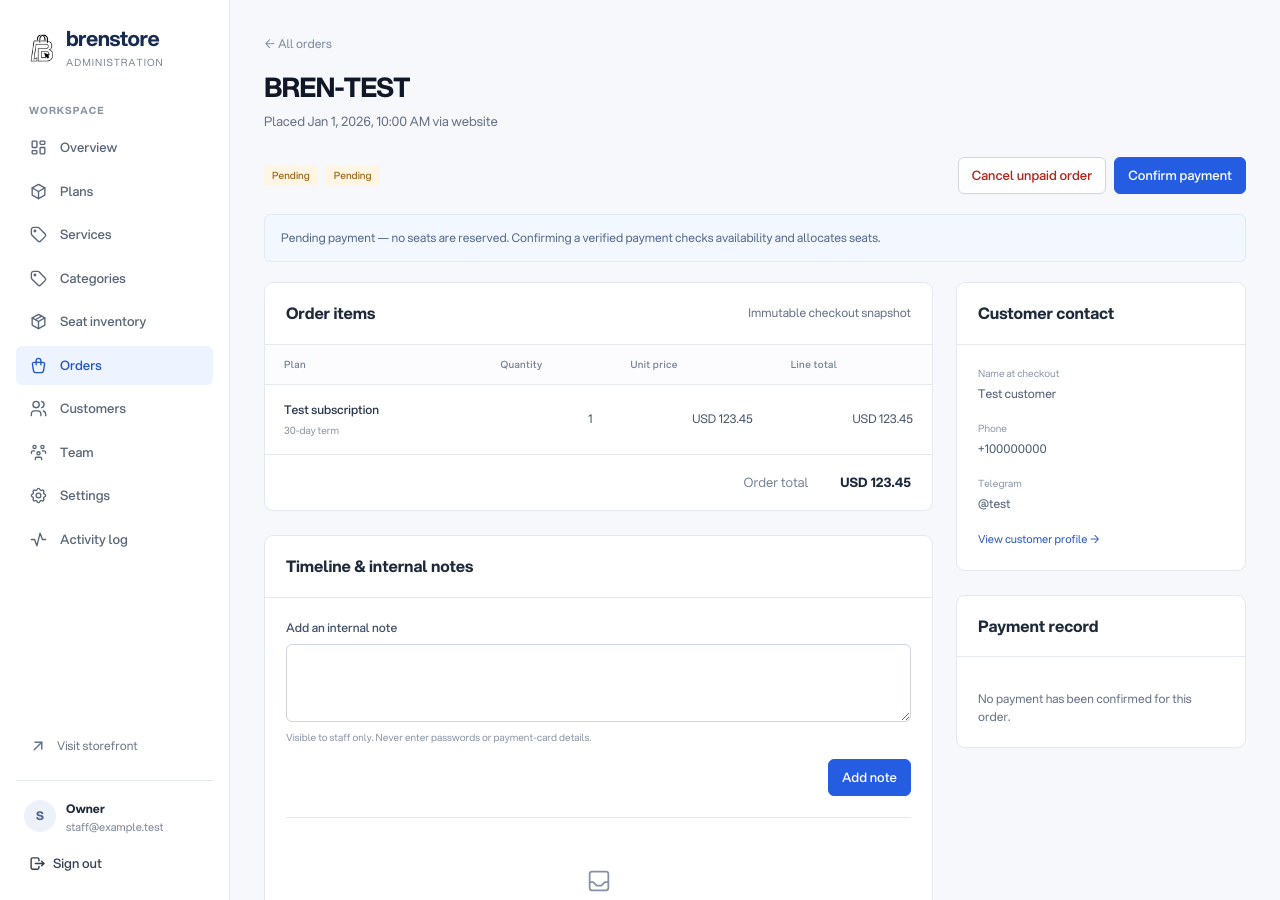
Test: order actions › keeps a failed financial confirmation open with no success state
(page scrolled)
Click the button "Confirm payment" at (1180, 176), box [1114,157,1246,194]
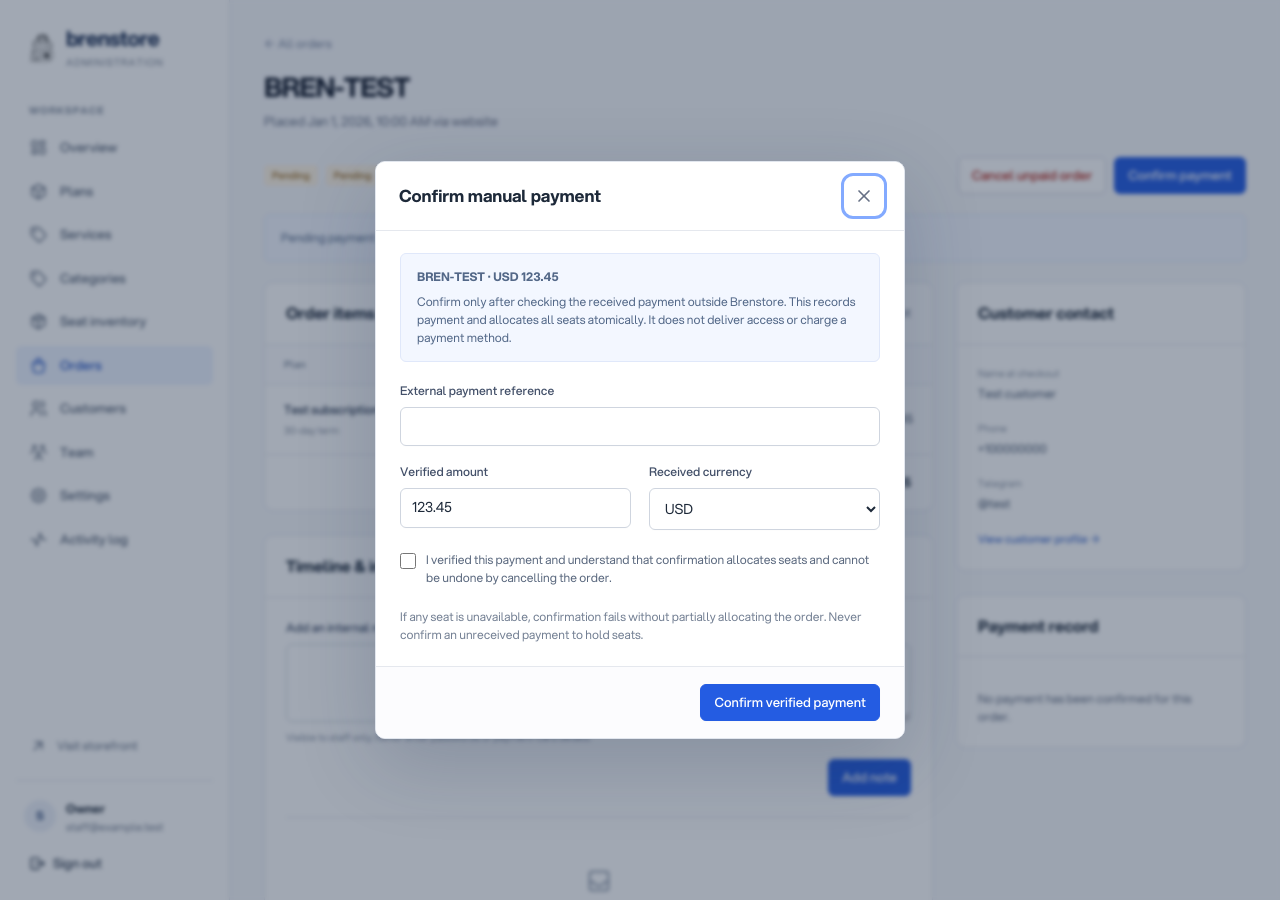
Type "BANK-TEST" into the field labelled "External payment reference" at (640, 426), box [400,407,880,446]
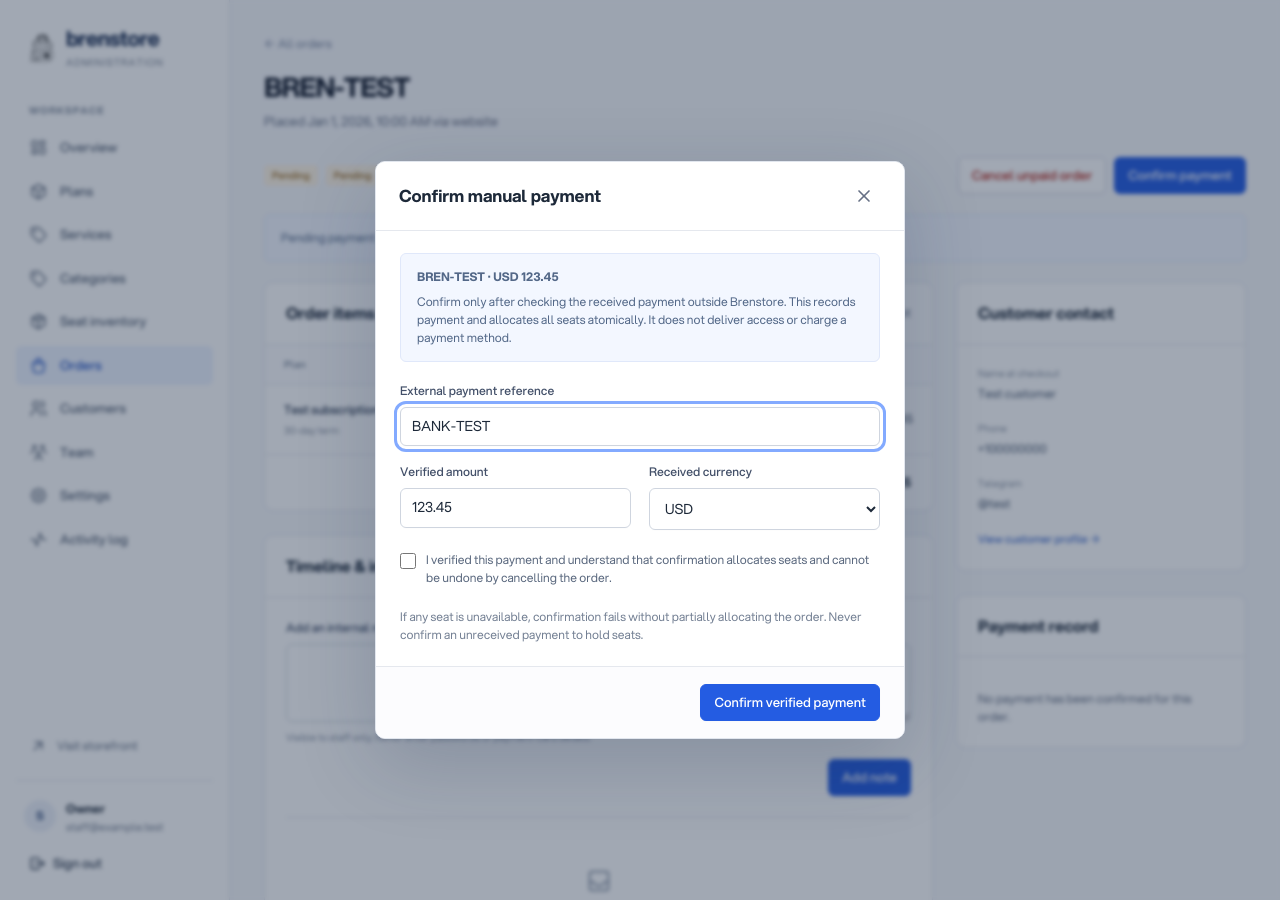
Click the checkbox at (408, 561), box [400,553,416,569]
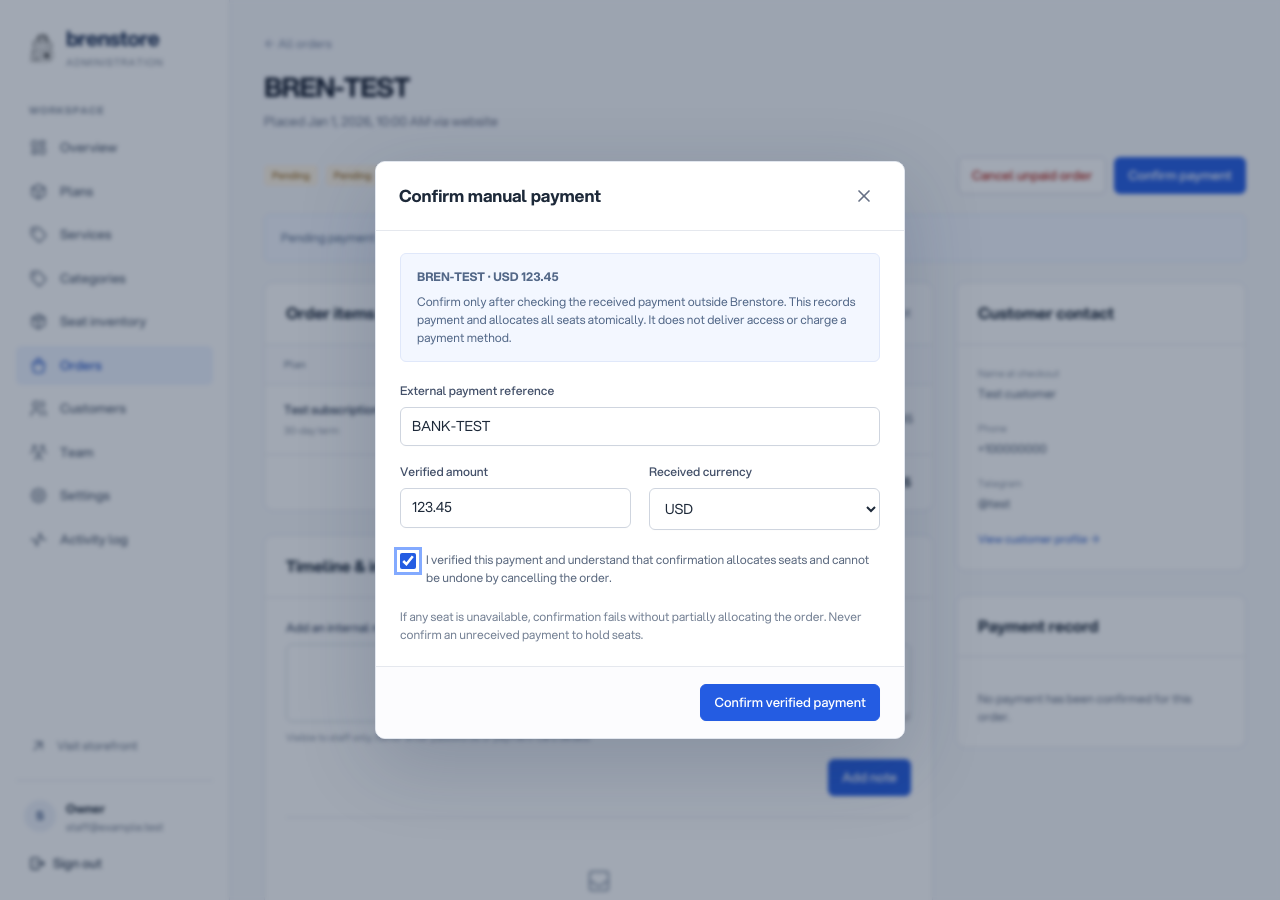
Click the button "Confirm verified payment" at (790, 703), box [700,684,880,721]
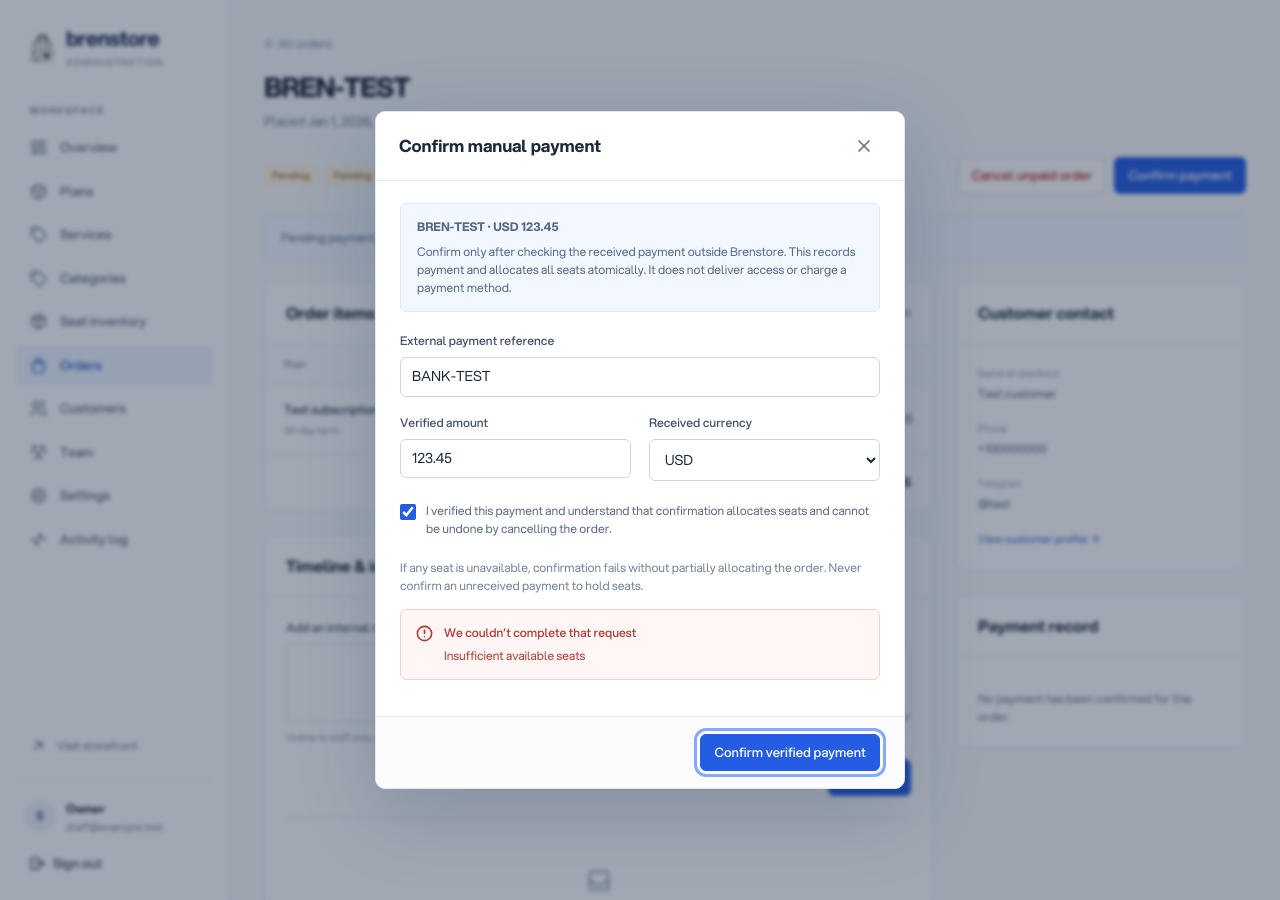
Result: the dialog is shown at [375,111,905,789]
Result: the message shows "Insufficient available seats" at [444,647,585,664]
